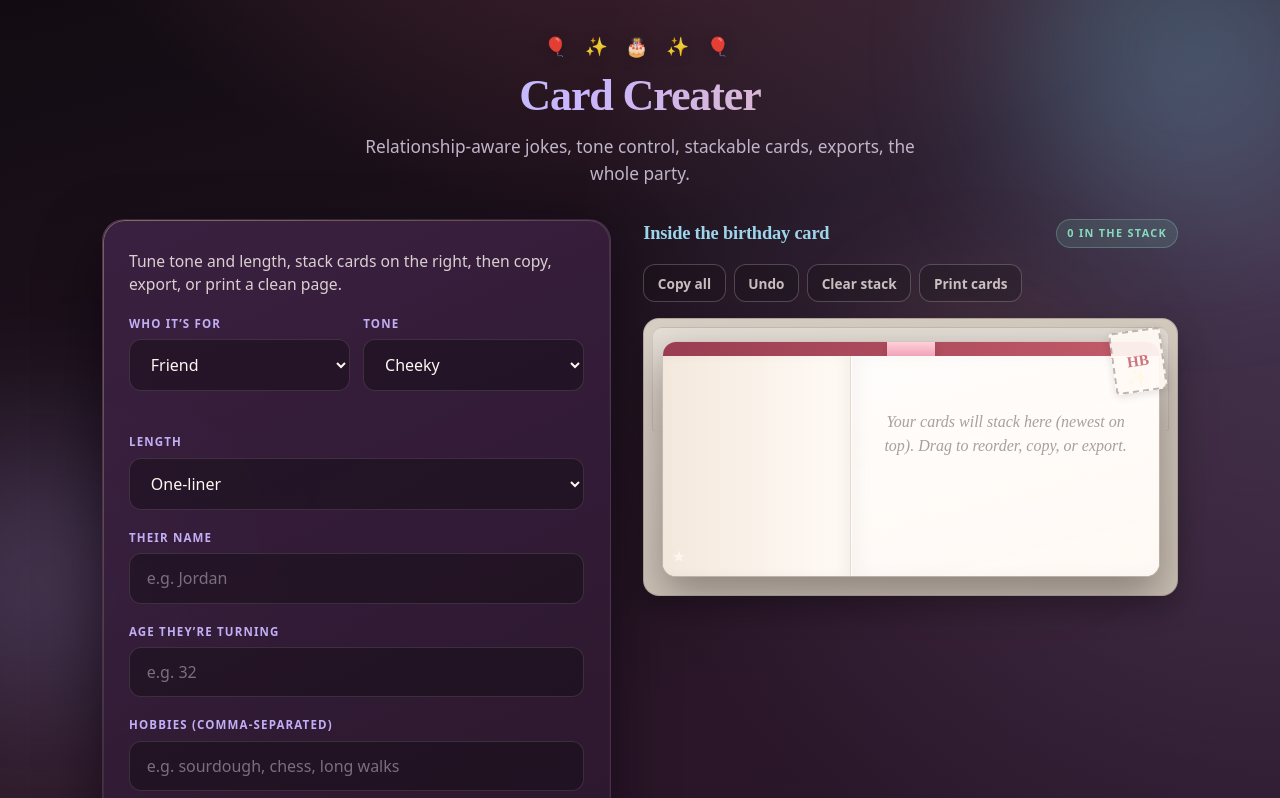
Test: App › 'Another line' adds another card
Step 1. Type "Jordan" into the field labelled "Their name" → (356, 578), box [129, 553, 584, 604]
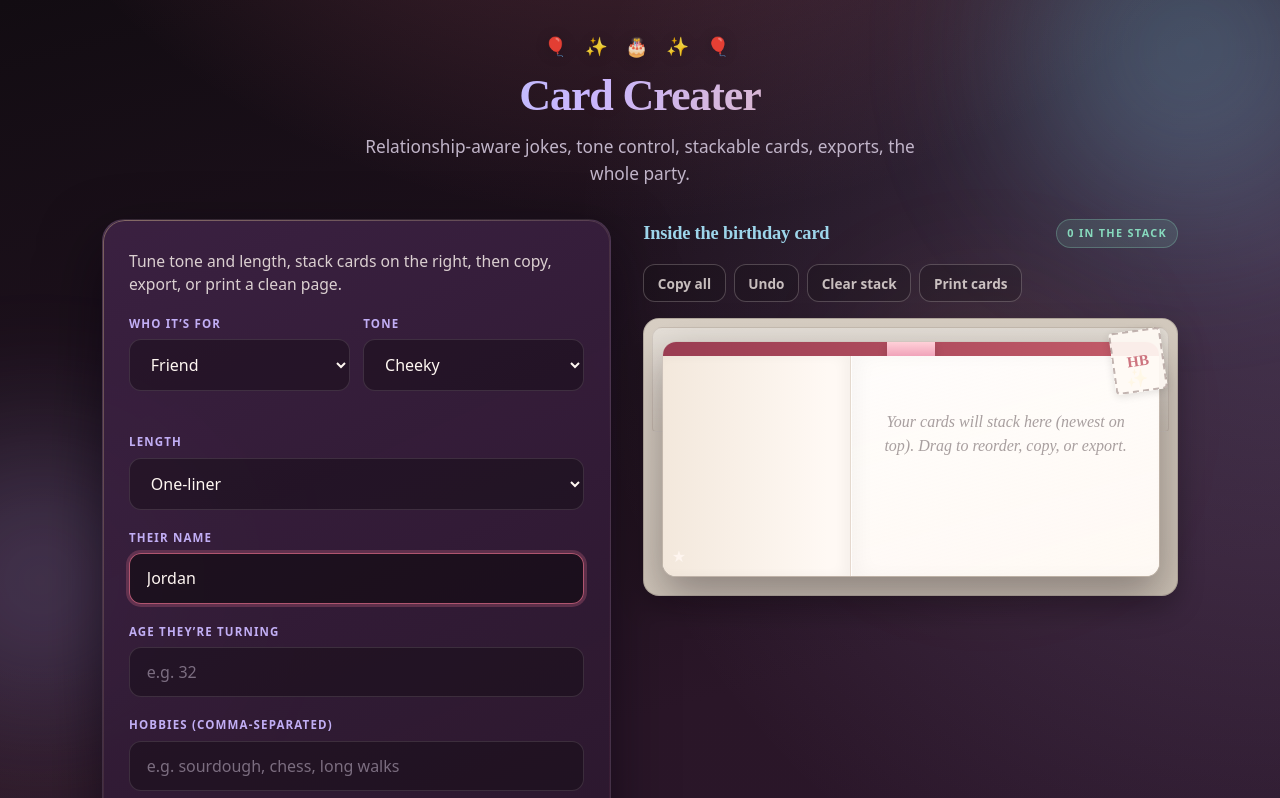
Step 2. Type "32" into the number field labelled "Age they’re turning" → (356, 672), box [129, 647, 584, 697]
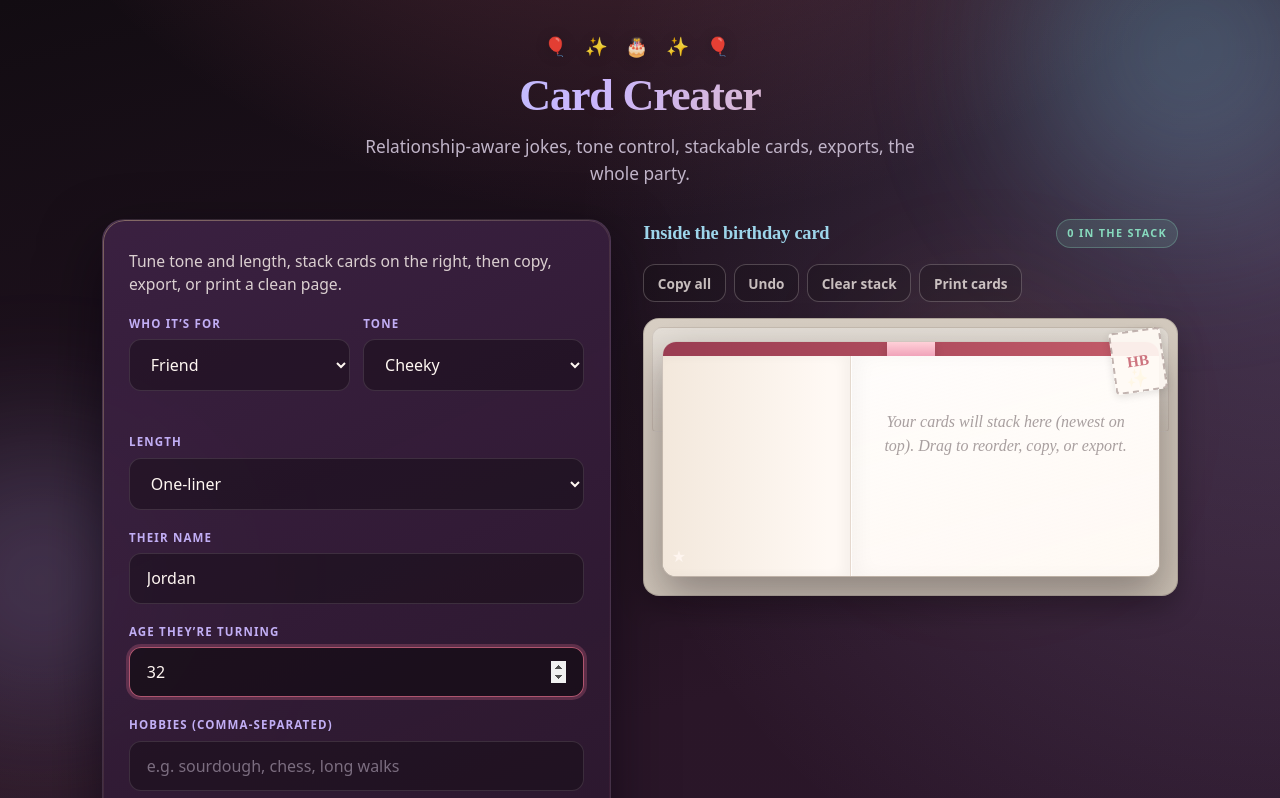
Step 3. Type "chess, hiking" into the field labelled "Hobbies (comma-separated)" → (356, 766), box [129, 741, 584, 791]
(page scrolled)
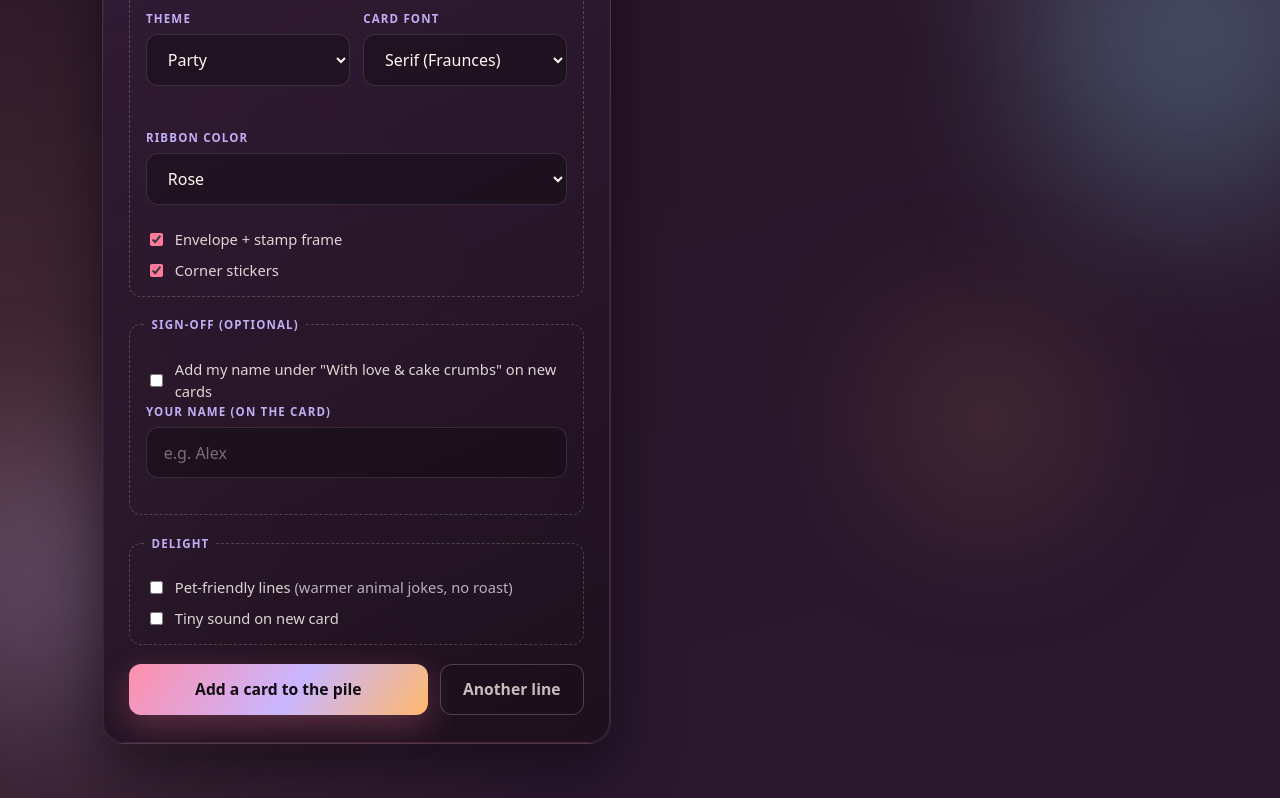
Step 4. Click the button "Add a card to the pile" → (278, 689), box [129, 664, 428, 715]
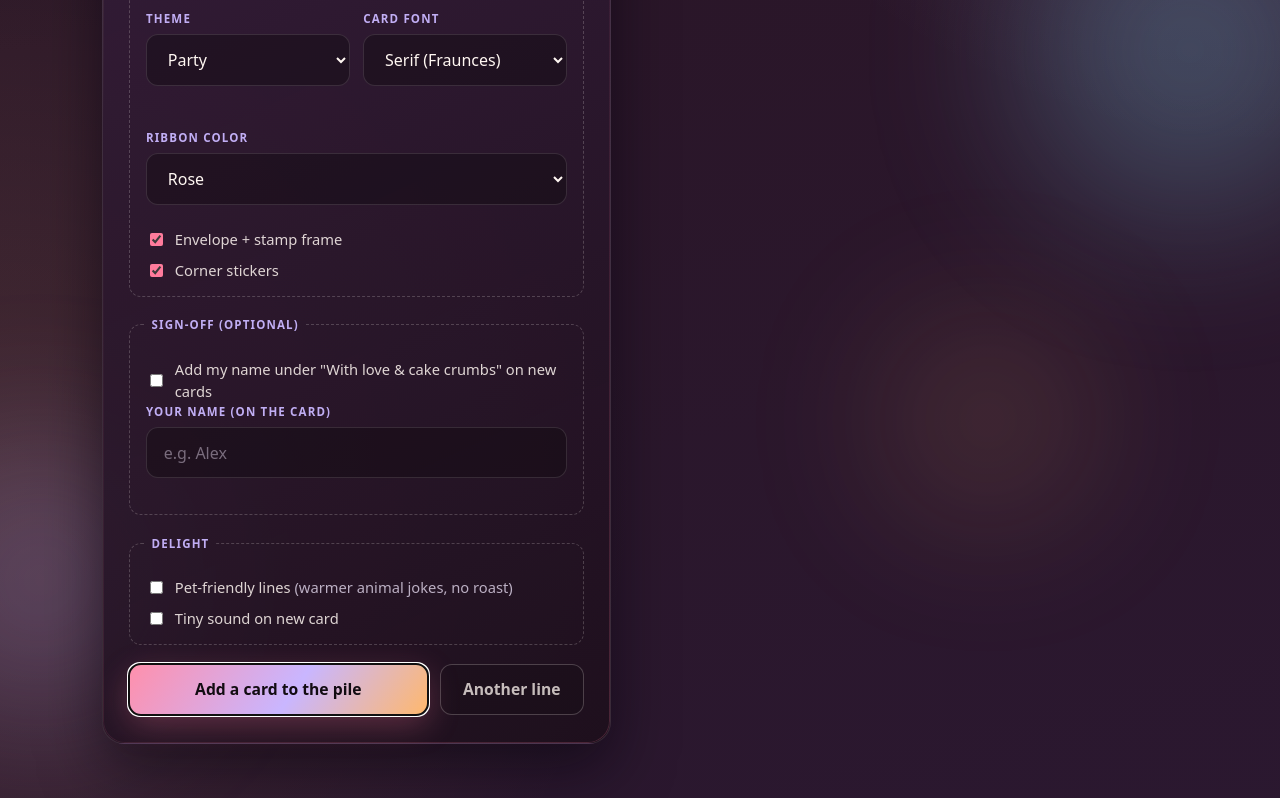
Step 5. Click the button "Another line" → (512, 689), box [440, 664, 584, 715]
(page scrolled)
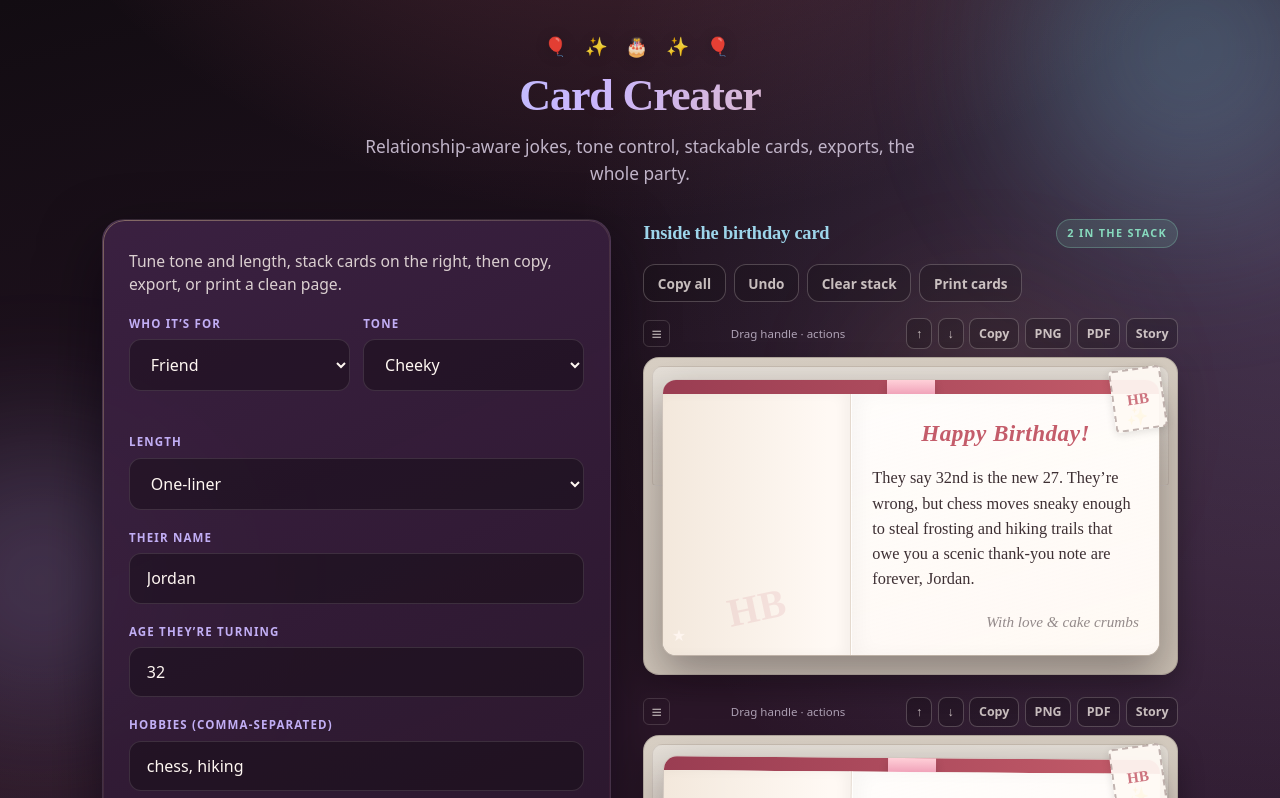
Expected: the text "2 in the stack" is shown, [1056, 219, 1178, 248]
